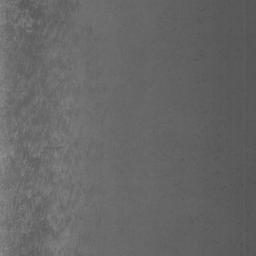Silk spot: (0, 0, 104, 256)
